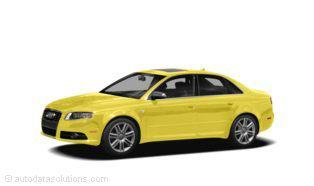Car: (37, 64, 281, 165)
